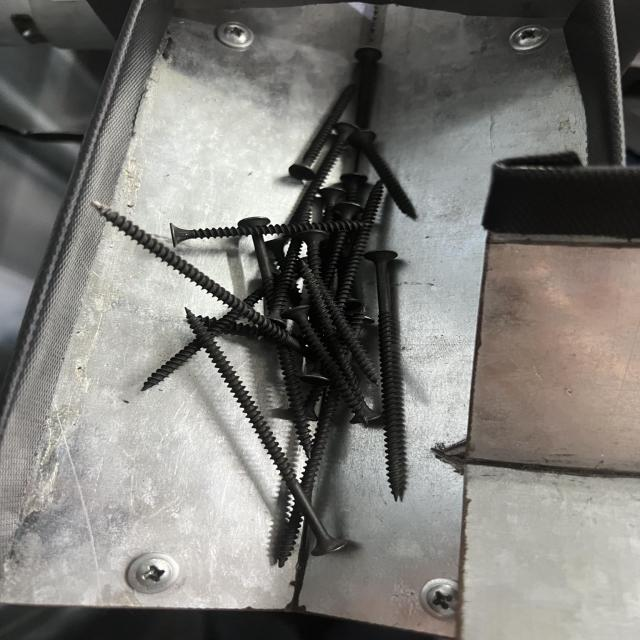screw: (183, 308, 353, 569), (361, 248, 414, 510), (350, 130, 422, 224), (167, 220, 383, 236)
